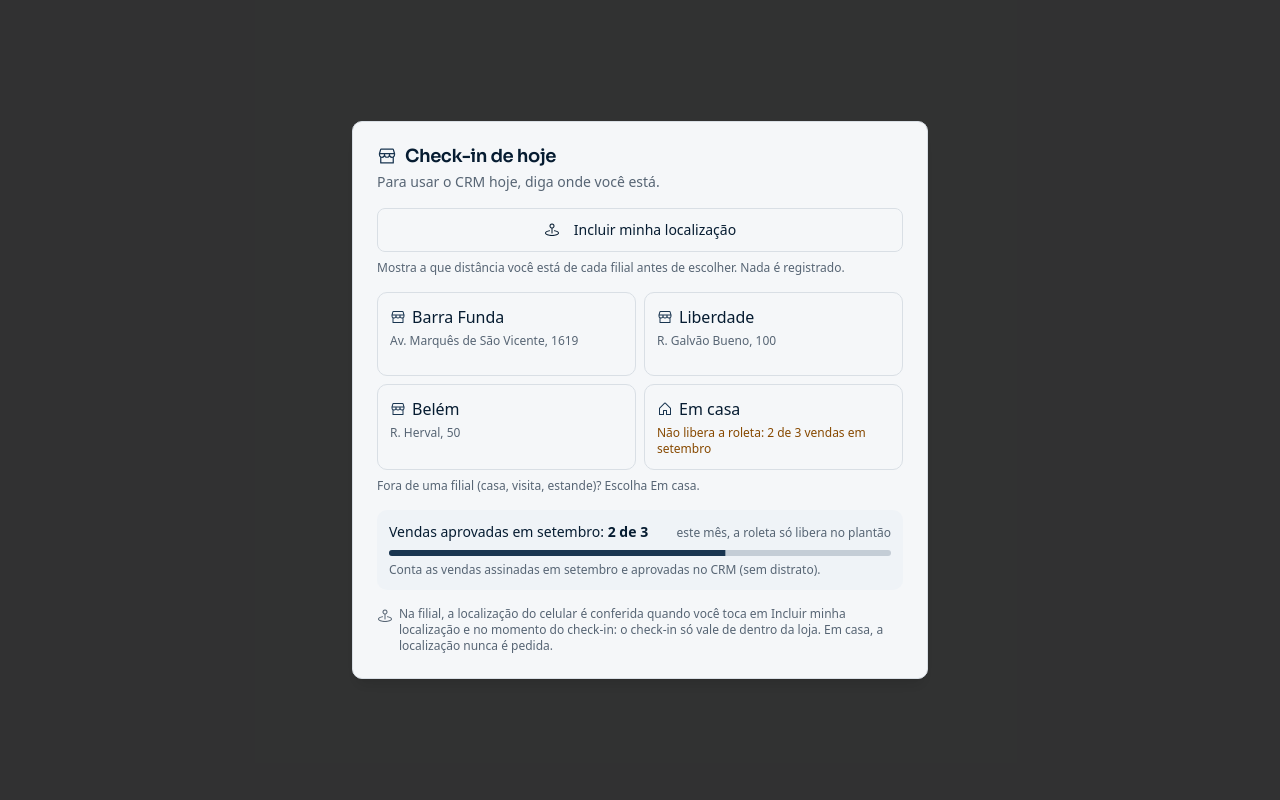
Test case: Incluir minha localização (diálogo) › a tabela de filiais não veio: a leitura vale, 'escolha normalmente', e a pergunta usa a mesma leitura
Later steps or results of the test are not shown.
Step 1. Click the button "Incluir minha localização" → (640, 230), box [377,208,903,252]
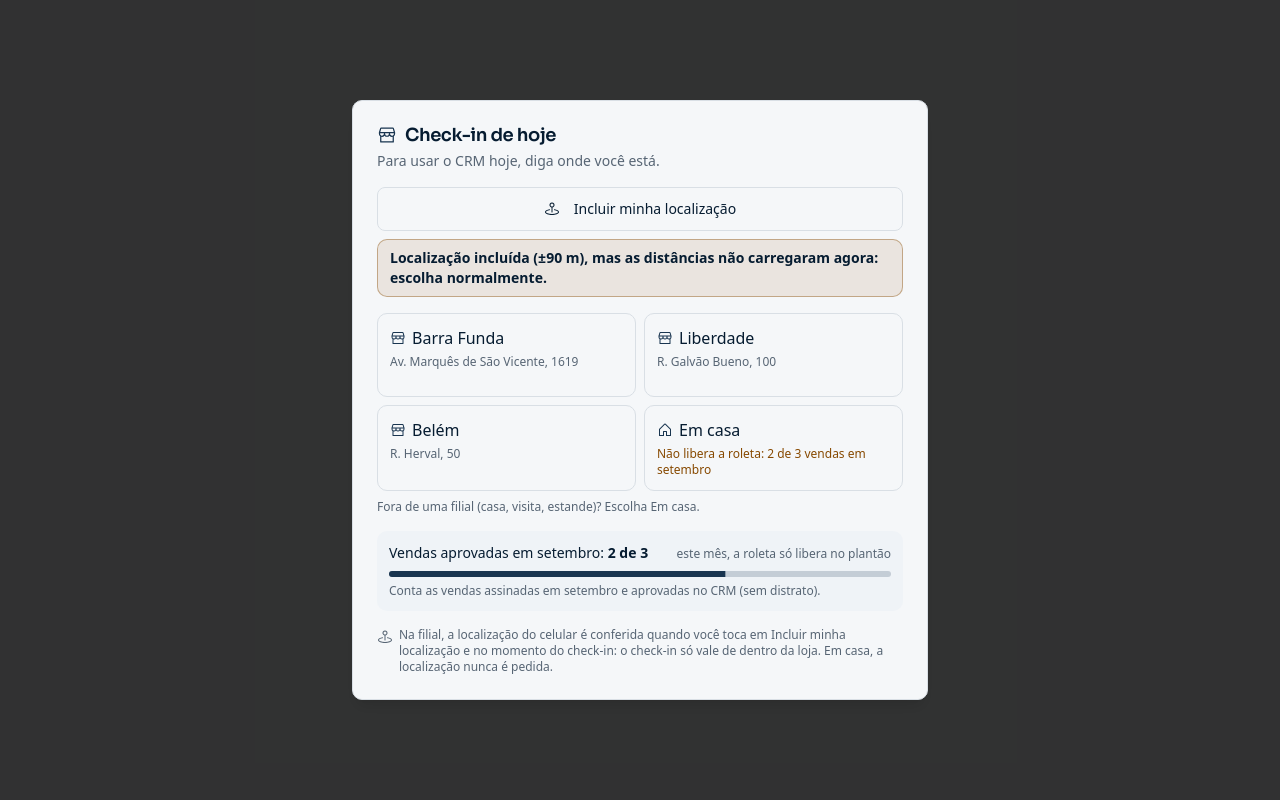
Now the text "Localização incluída (±90 m), mas as distâncias não carregaram agora: escolha normalmente." is shown, box [390,248,878,287]
